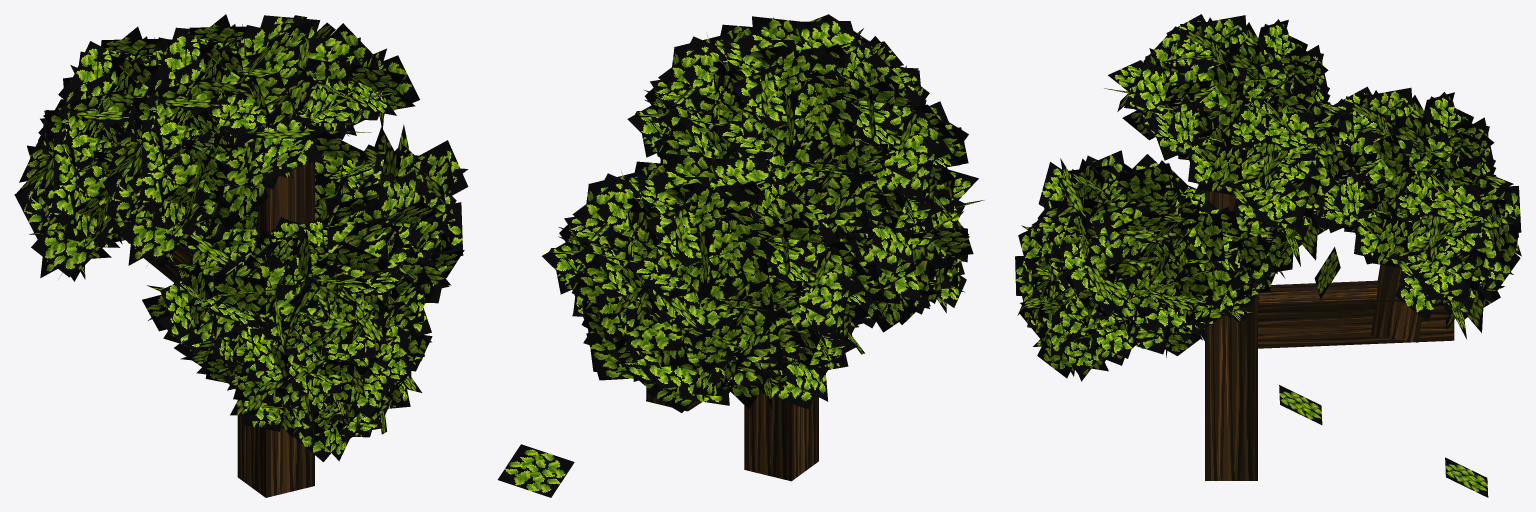
The model's file is custom-tree.gltf.
3 renders of one model, left to right at view 1: azimuth 30°, elevation 25°; view 2: azimuth 150°, elevation 25°; view 3: azimuth 270°, elevation 25°, orthographic. The views are drawn at different scales.
Parts seen in each view (by area): view 1: Plane.1065 (×4), add wood, Cubo; view 2: Plane.1065 (×4), add wood, Plane.547; view 3: Plane.1065 (×4), Cubo (×2), add wood, Plane.547 (×3).
Boxes of the visible parts, x1,y1,x2,y2 form: Plane.1065 (×4): (14,14,468,461); add wood: (237,138,314,497); Cubo: (144,246,194,282); Plane.1065 (×4): (542,14,984,412); add wood: (744,393,818,481); Plane.547: (497,444,574,497); Plane.1065 (×4): (1015,14,1521,381); Cubo (×2): (1258,264,1454,348); add wood: (1205,107,1257,480); Plane.547 (×3): (1279,247,1488,497).
Bounding box in the file's own units: 19.44 × 26.28 × 28.28.
Materials: 13 (13 with a texture image).
